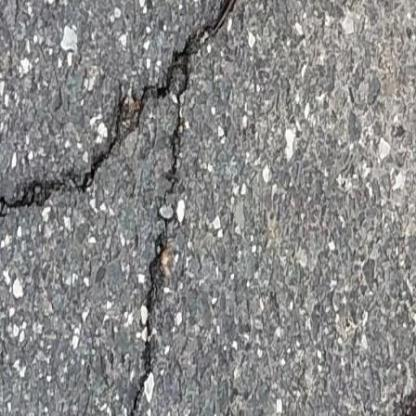Cracks: (0, 0, 237, 228), (95, 47, 203, 416)
